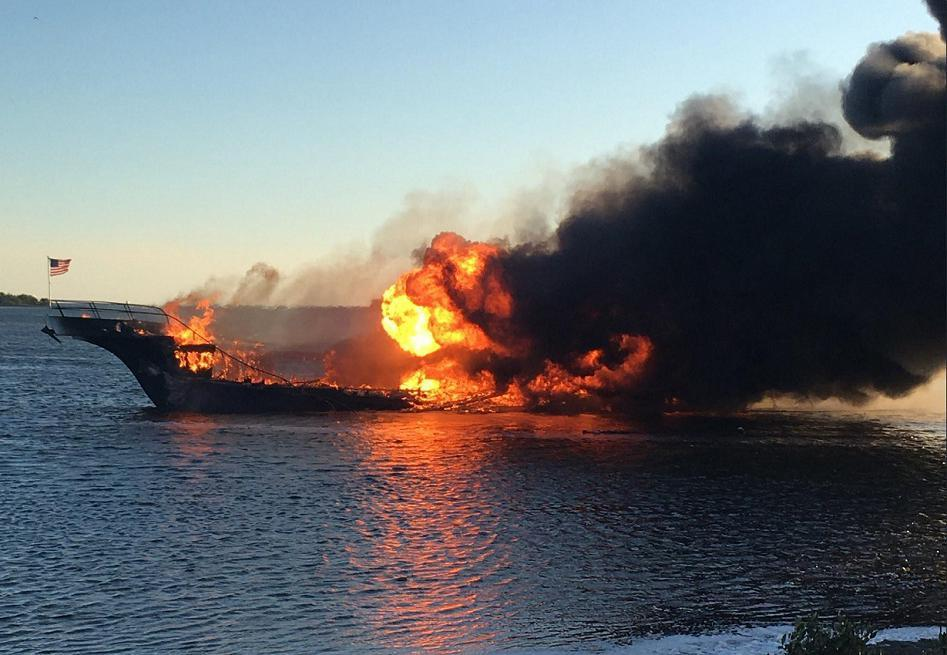Fire: (396, 230, 604, 411), (170, 292, 236, 379)
